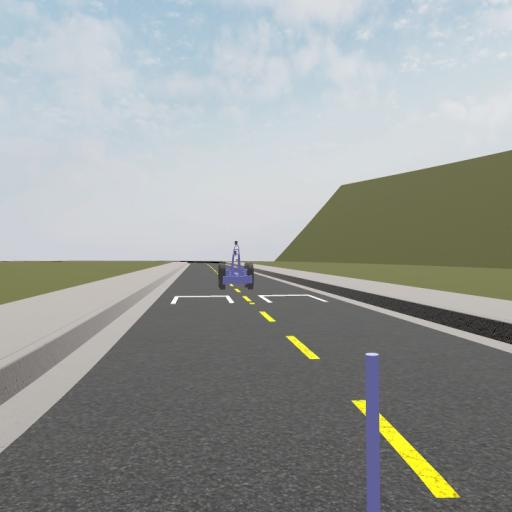ERP-42: (218, 243, 255, 289)
